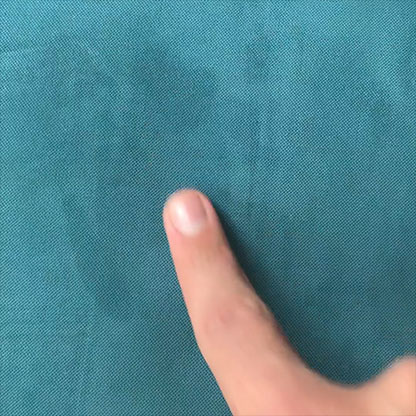fingertip: (145, 177, 233, 248)
